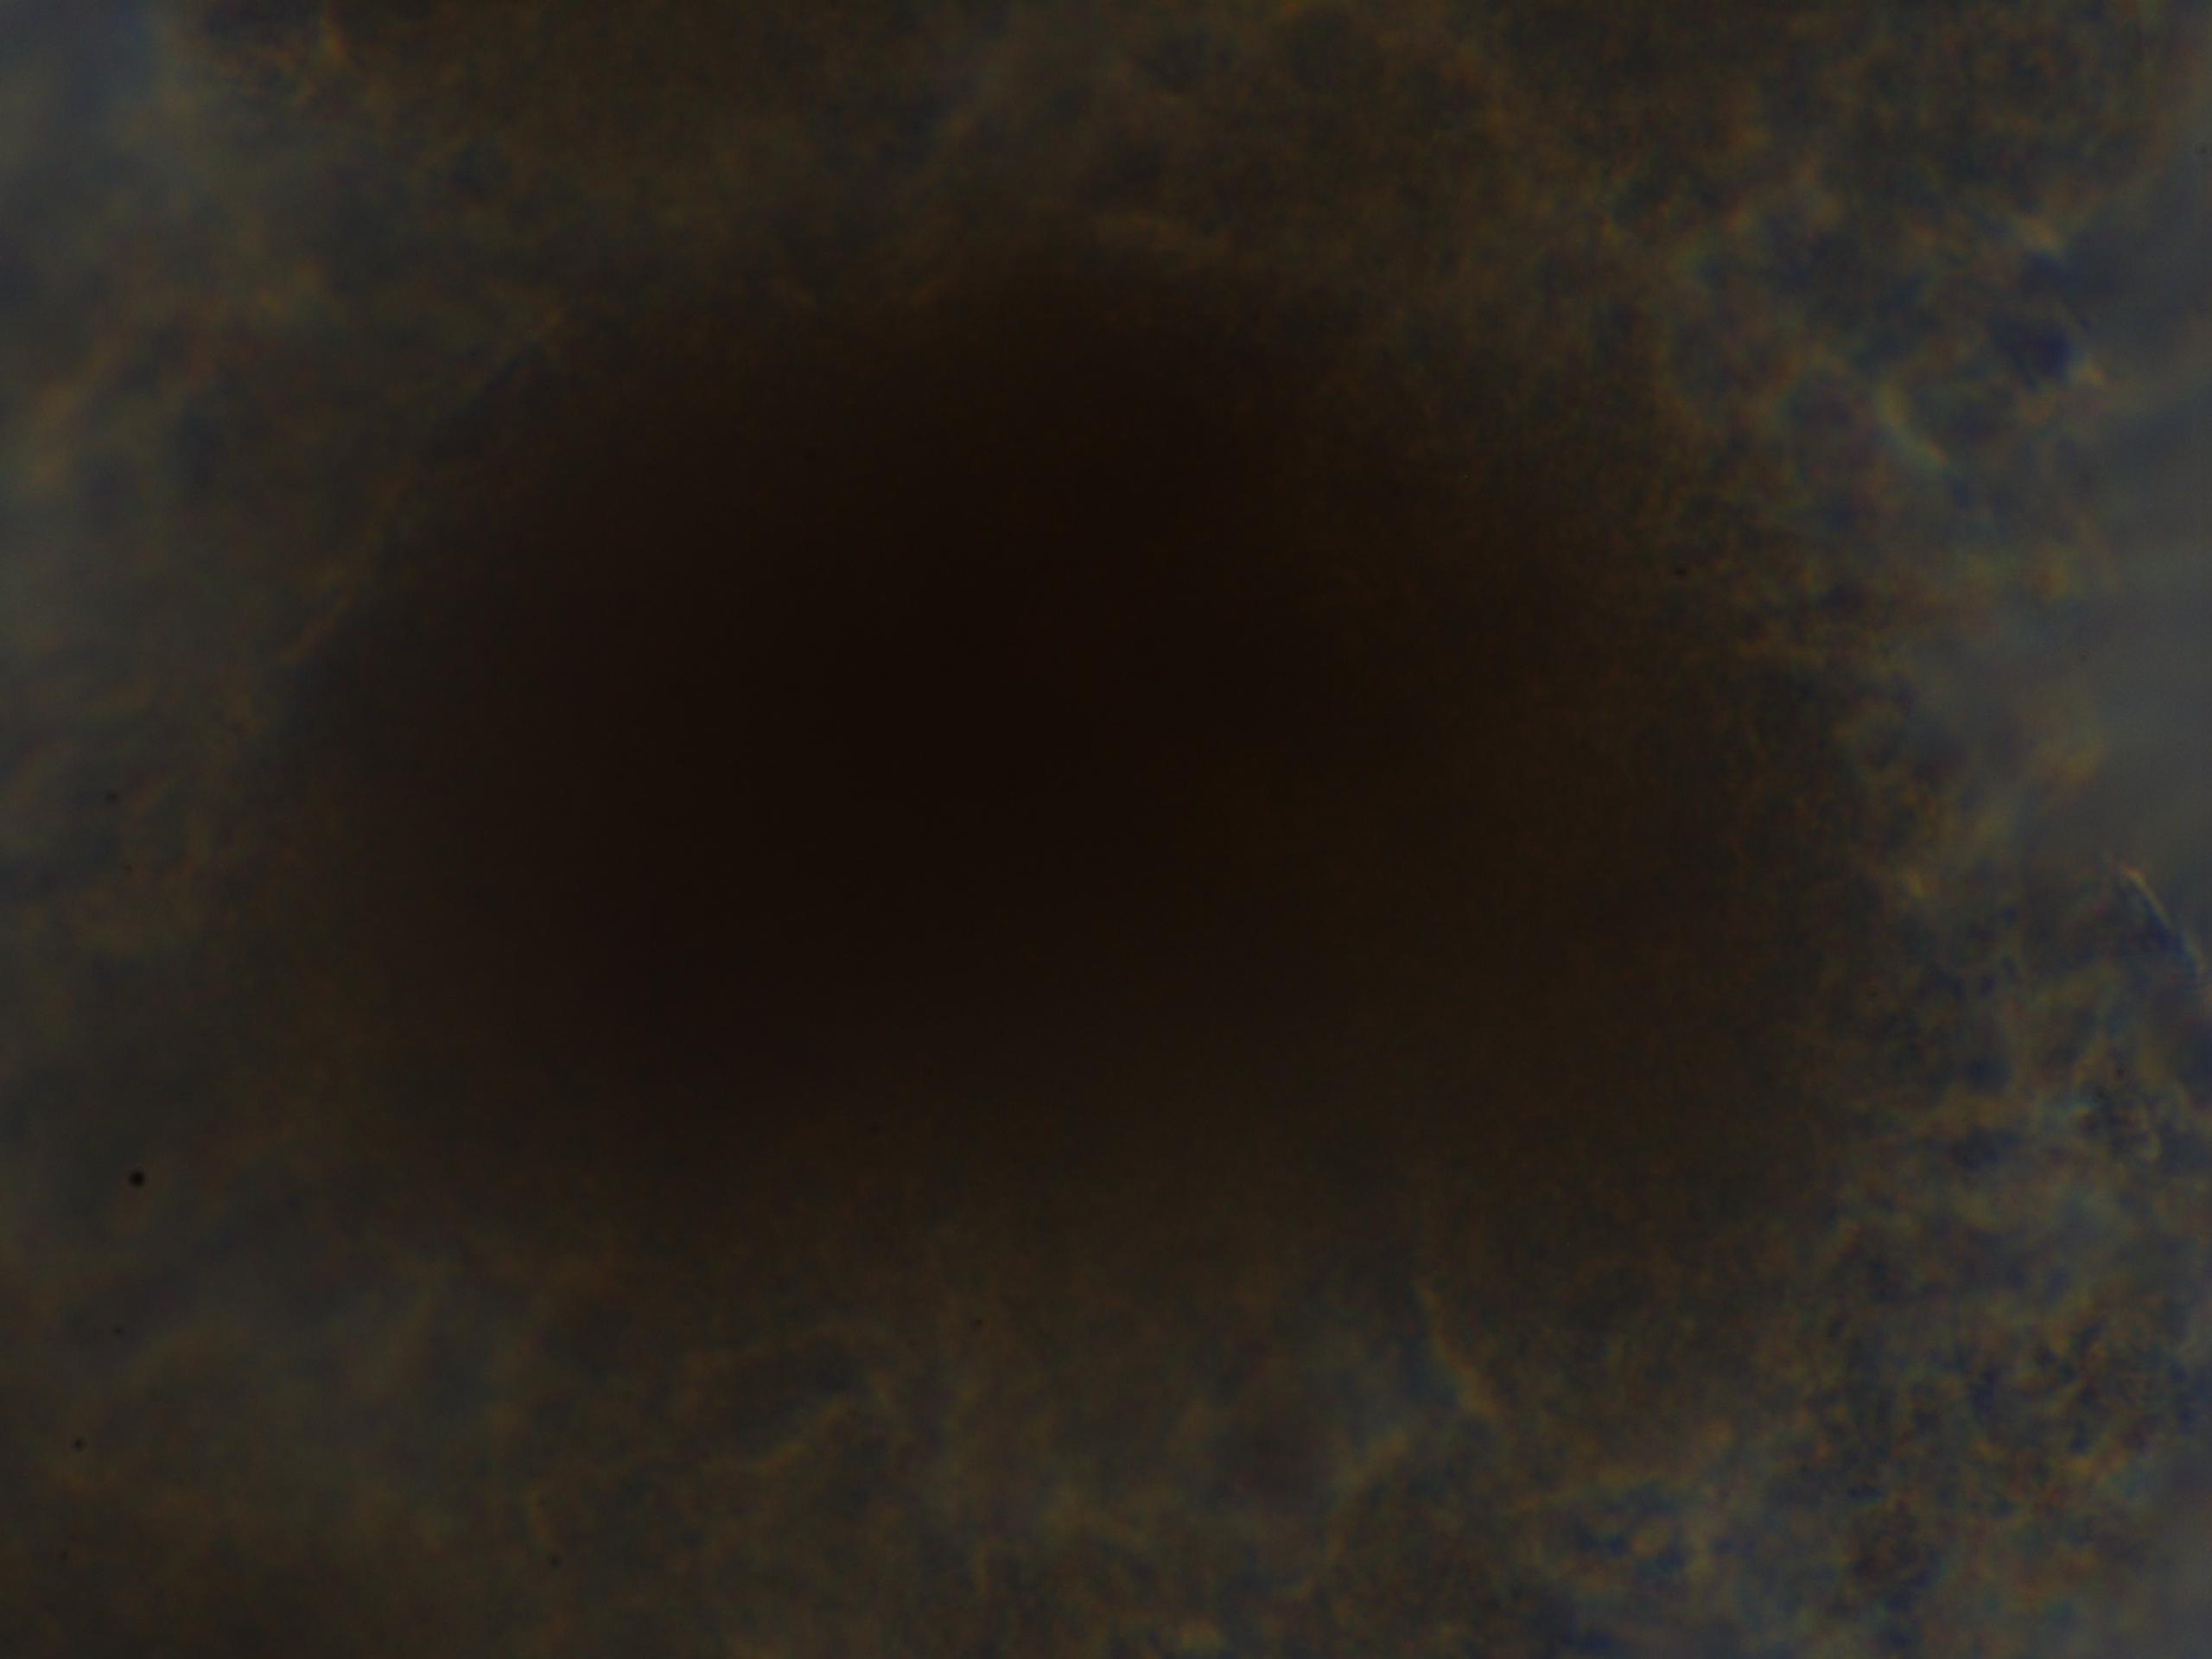spherical_floc: (171, 193, 1968, 1429)
